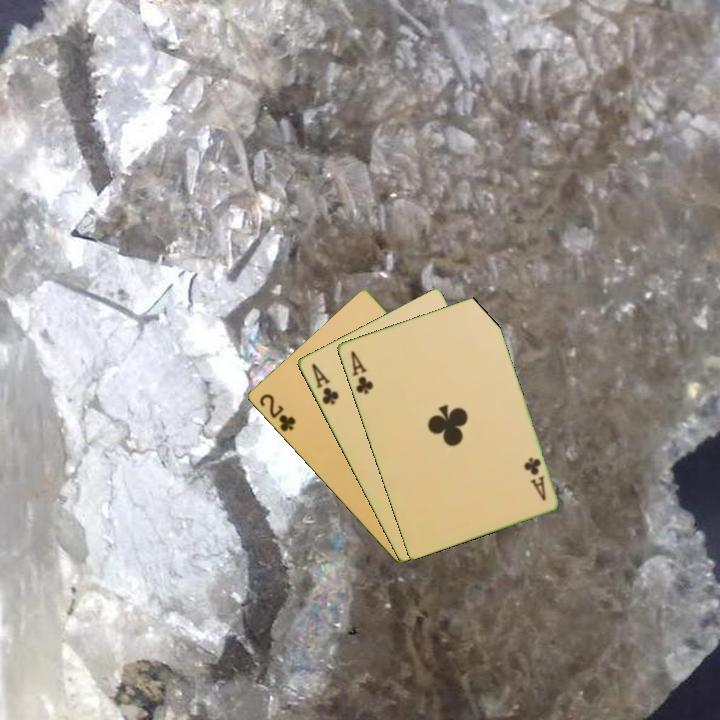2c: (255, 390, 299, 435)
Ac: (308, 360, 341, 408), (347, 347, 376, 397), (520, 453, 548, 504)
